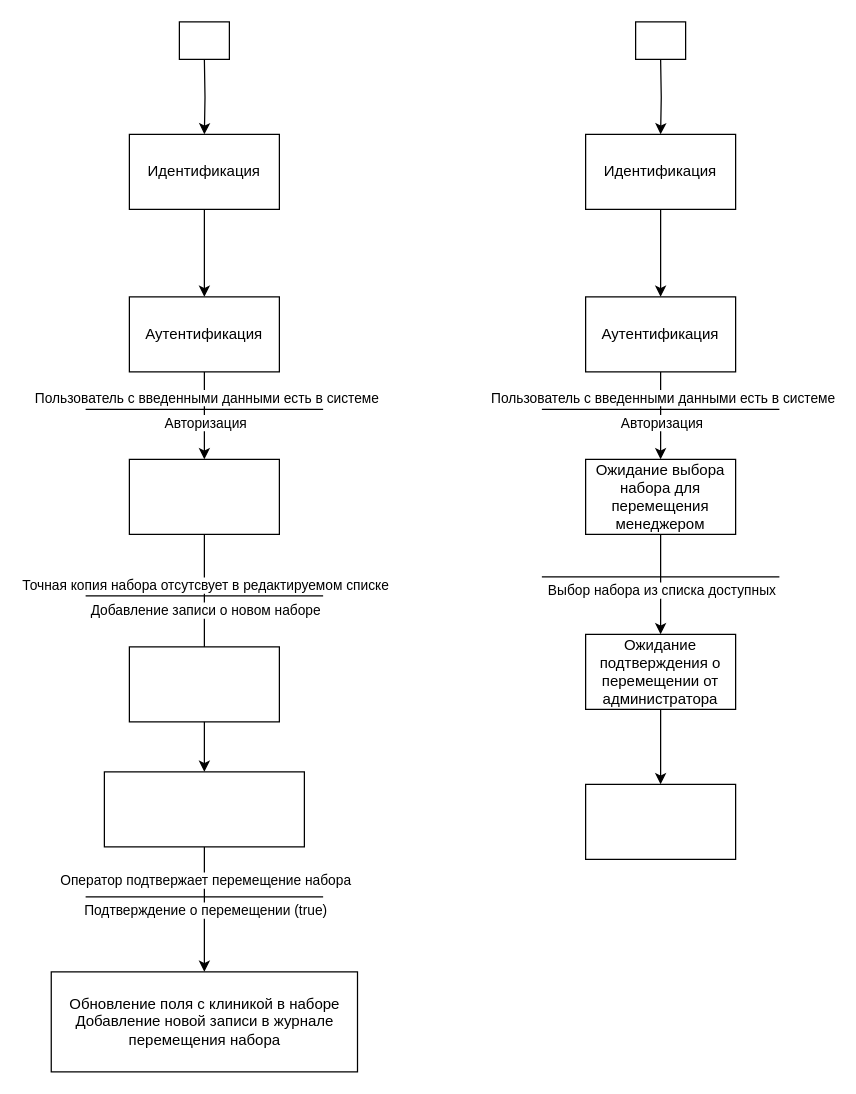
The diagram is 856 pixels wide and 1094 high, and some of its shapes have lost their labels. The box of each missing label's shape, as (x1, y1, x2, y2) in pixels:
Внесена информация о наборе: (128, 646, 279, 722)
Ожидание записи нового набора: (128, 458, 279, 534)
Ожидание подтверждения на перемещение набора, выбранного менеджером: (103, 771, 304, 847)
Получение результата о перемещении: (584, 783, 736, 859)
